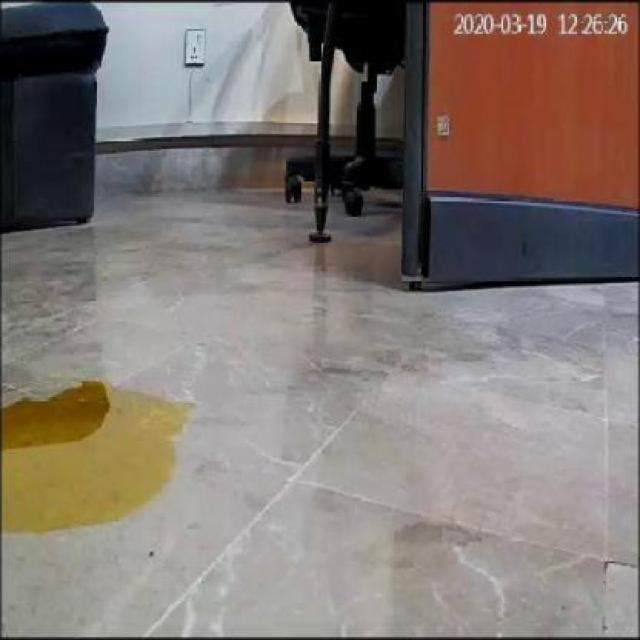spillage: (1, 381, 196, 538)
